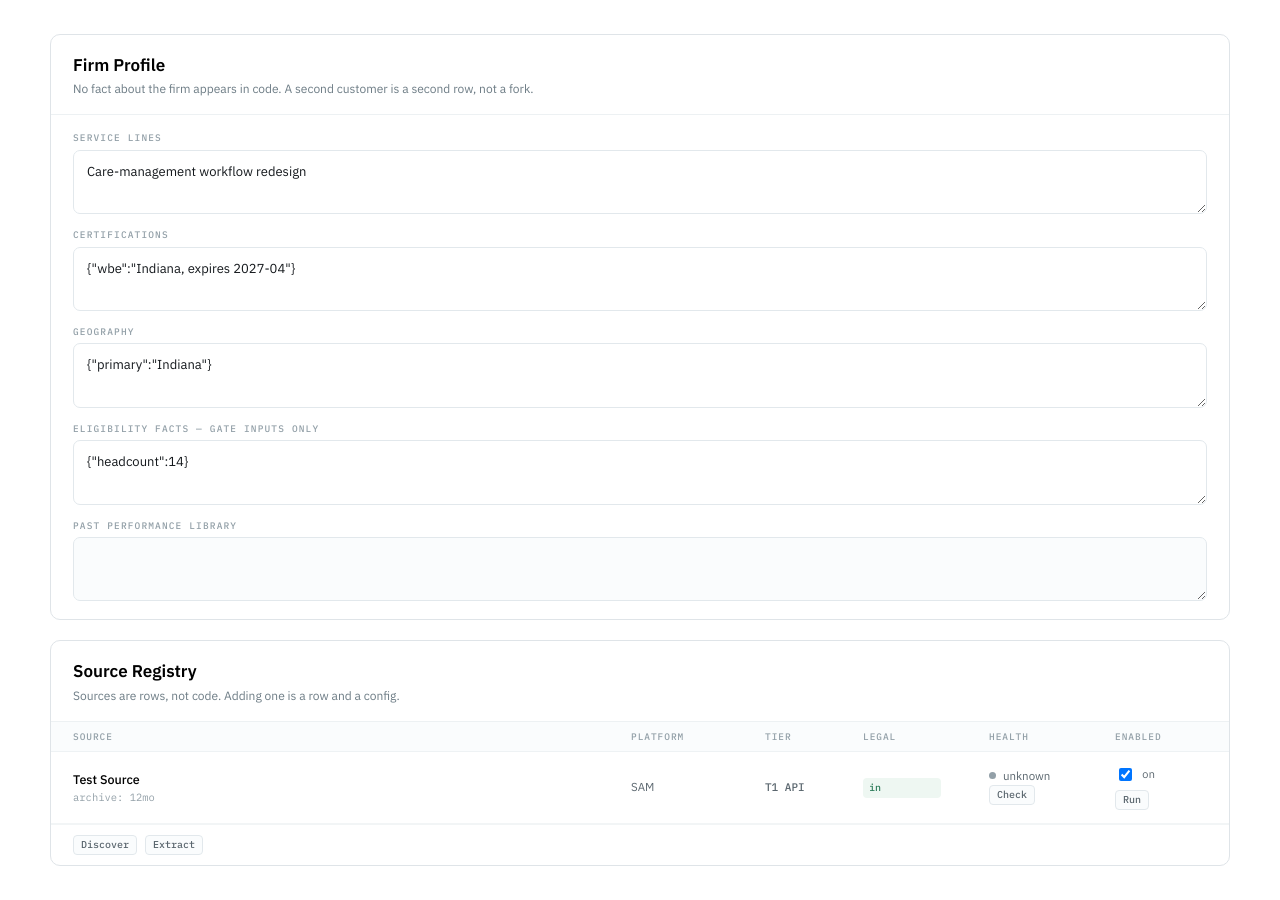
Scenario: an Extract whose request never completes surfaces the reason and frees the control
The image size is (1280, 900).
Click the button with aria-label "extract documents" at (174, 845), box top-left (145, 835), bottom-right (203, 855)
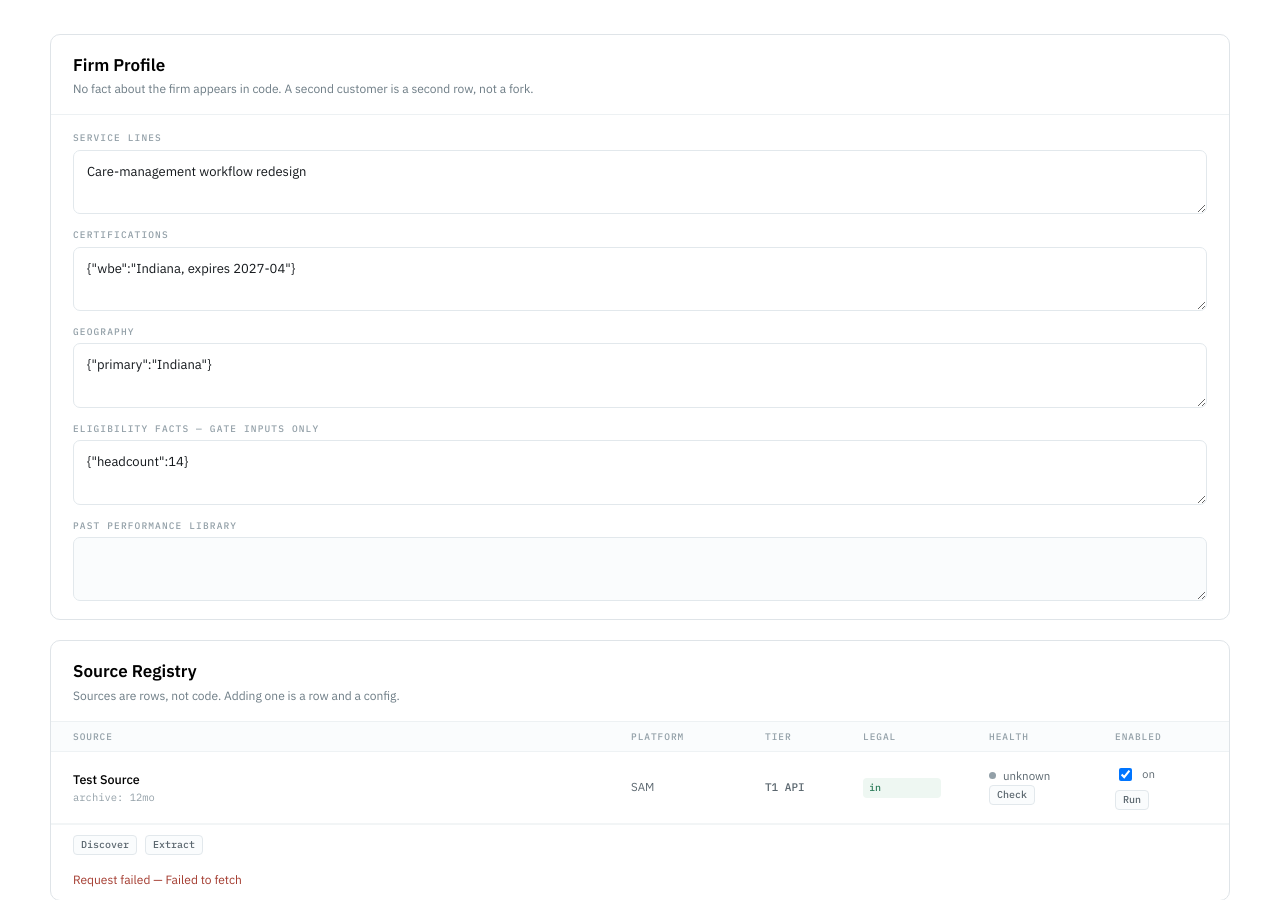
Now the message shows "Failed to fetch", box top-left (73, 872), bottom-right (242, 887)
